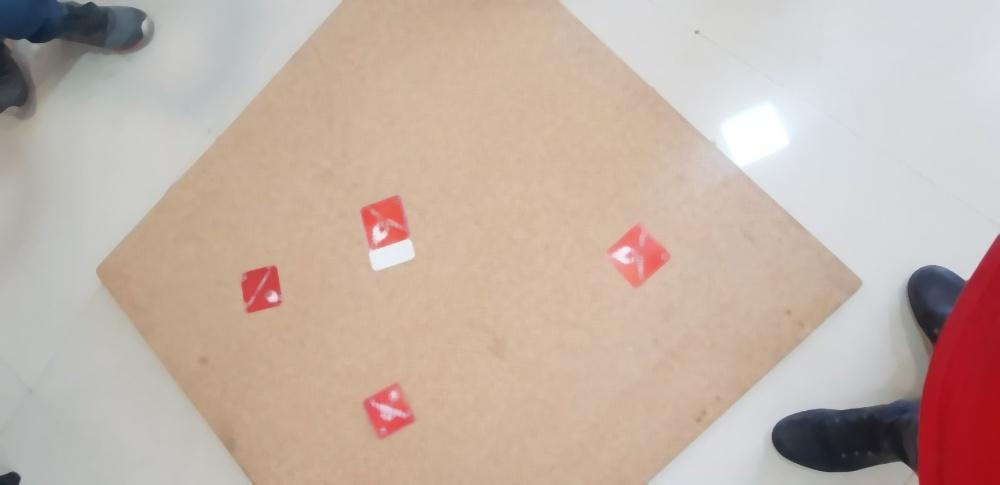flammable: (606, 222, 671, 288), (359, 382, 417, 442), (358, 193, 411, 251), (241, 265, 284, 313)
